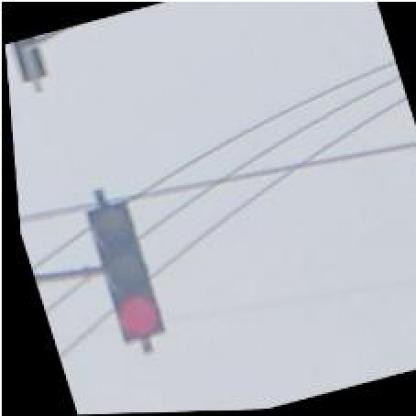red: (72, 196, 166, 346)
